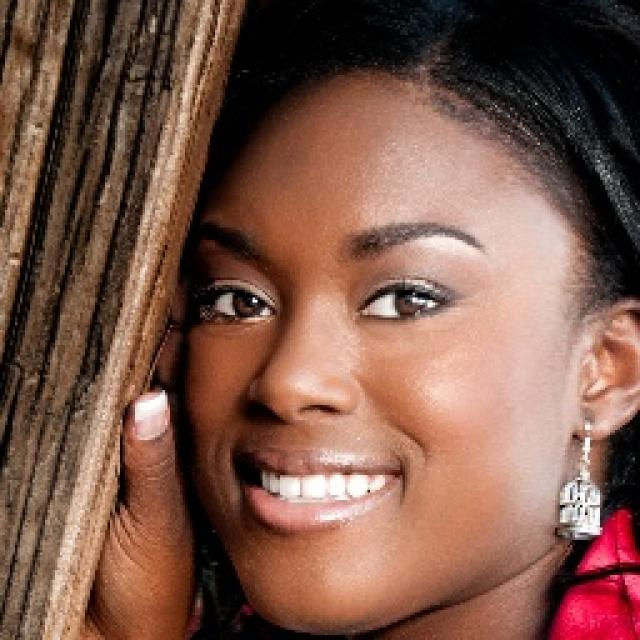earlobe: (572, 394, 612, 444)
eye: (357, 280, 445, 320), (198, 282, 278, 323)
nose: (246, 387, 357, 468)
wholeear: (572, 295, 640, 443)
